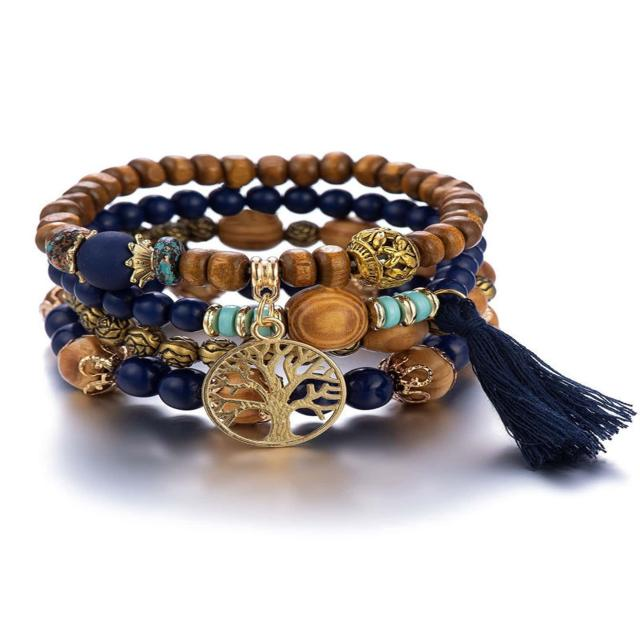bracelet: (2, 73, 640, 531)
